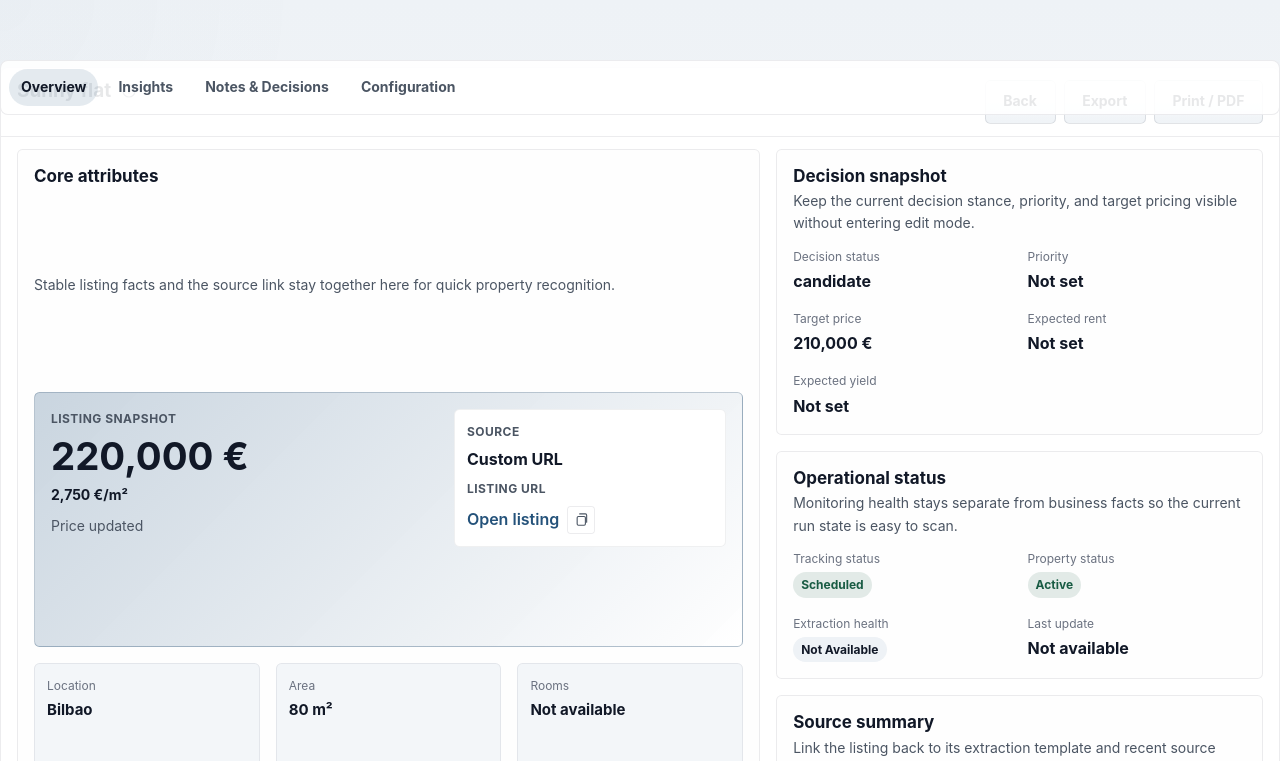
it: PropertyDetailPage › keeps note editing inside notes and decisions while configuration stays operational
Expected: the heading "Sunny flat" is shown, [17, 80, 111, 103]
Click the tab "Notes & Decisions".
click(267, 87)  # box [193, 69, 341, 106]
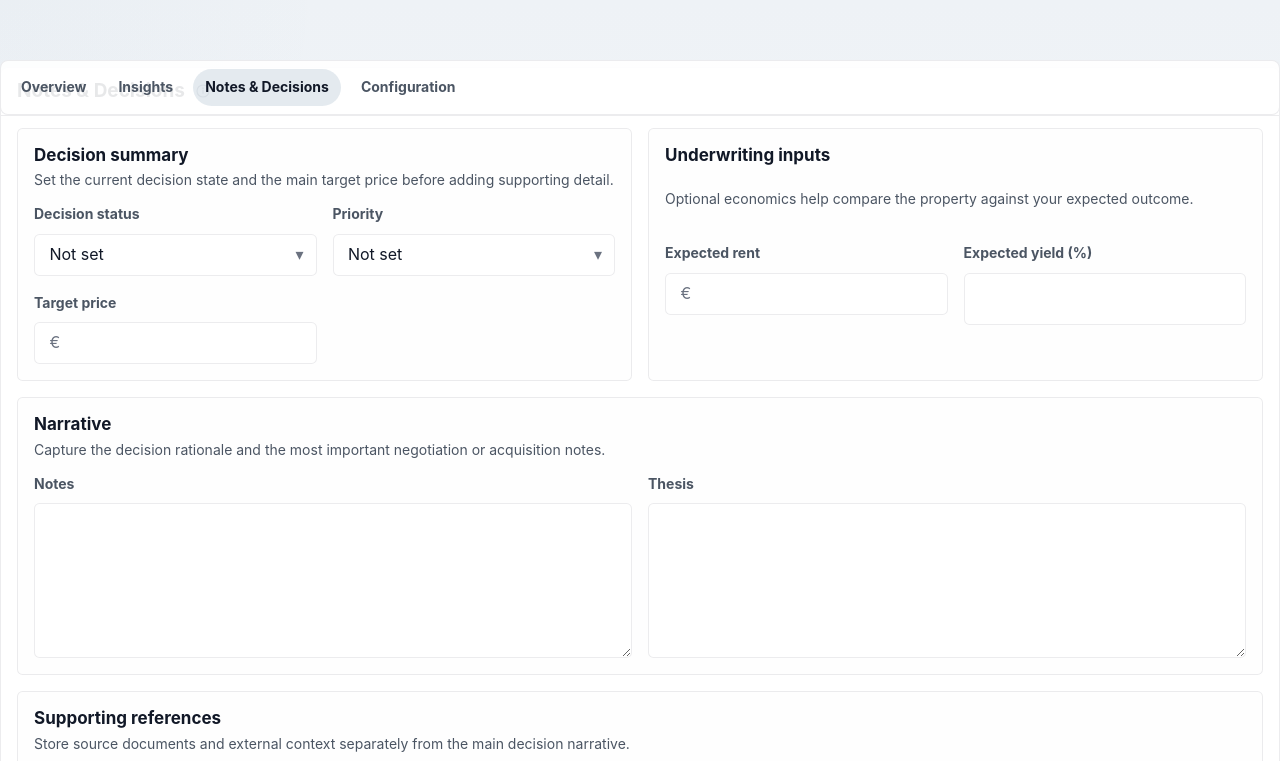
Now the dropdown labelled "Decision status" is shown, box [49, 235, 288, 275]
Now the text box labelled "Notes" is shown, box [34, 503, 632, 658]
Now the heading "Decision summary" is shown, box [34, 145, 189, 165]
Click the tab "Configuration".
click(408, 87)  # box [349, 69, 468, 106]
(page scrolled)
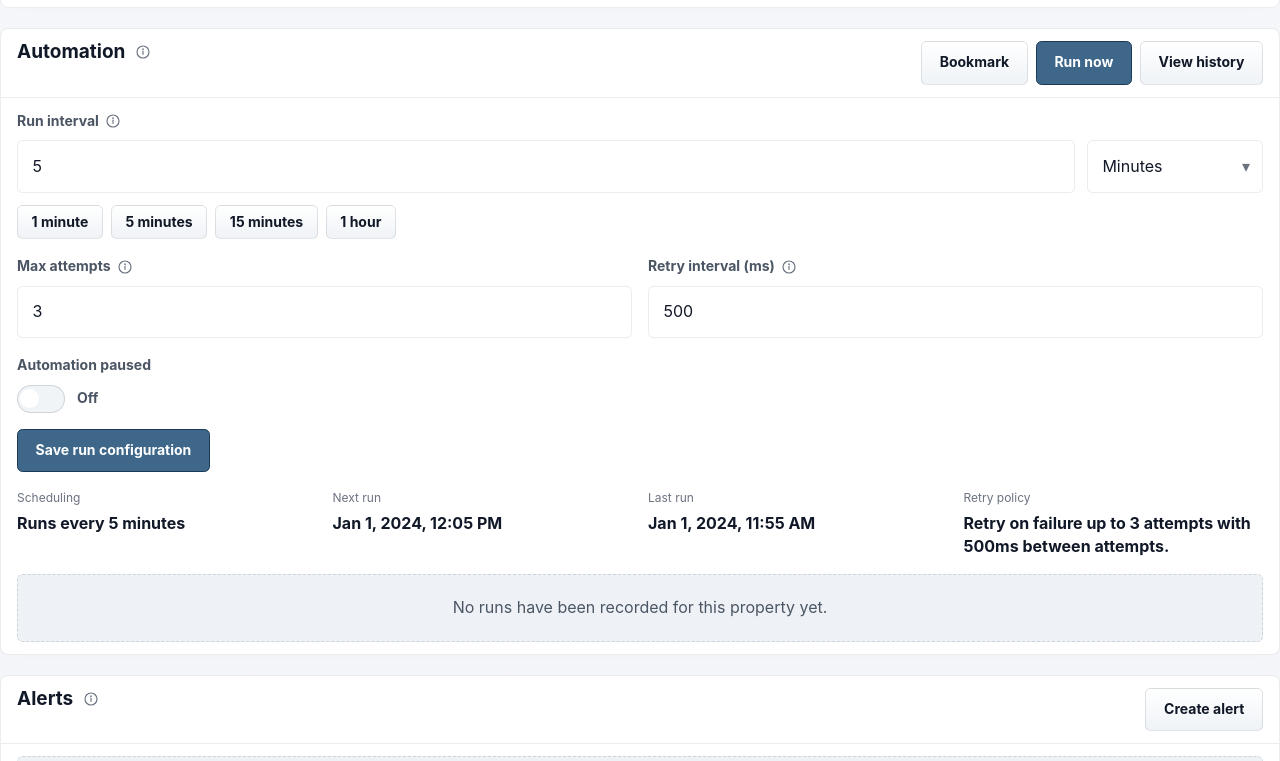
Now the text labelled "Decision status" is gone
Now the button labelled "Notes" is gone
Now the text "Save run configuration" is shown, box [36, 442, 191, 459]
